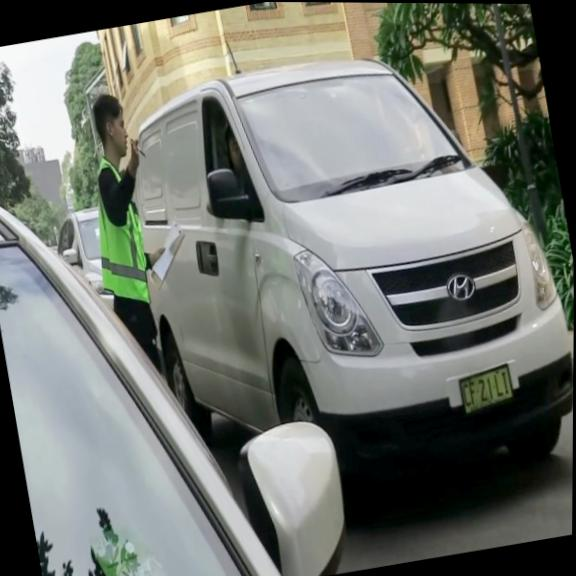safety_vest: (80, 152, 154, 316)
